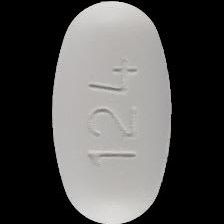61786-906: (0, 0, 224, 224)
